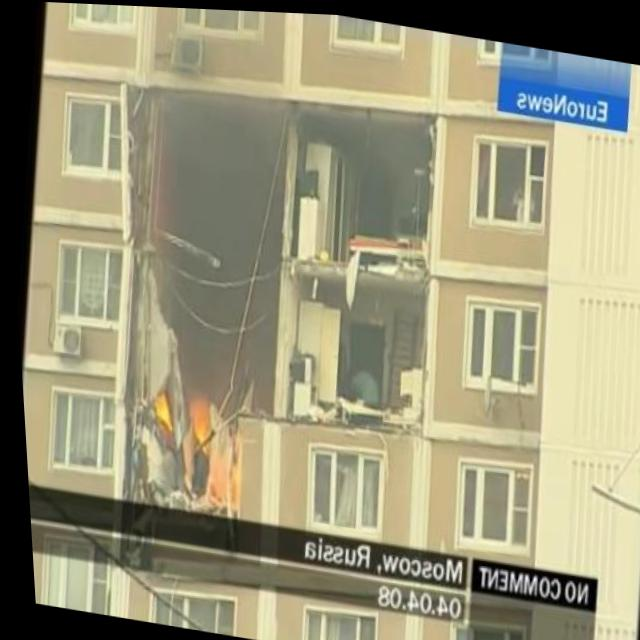fire: (174, 381, 217, 459), (142, 384, 170, 435)
